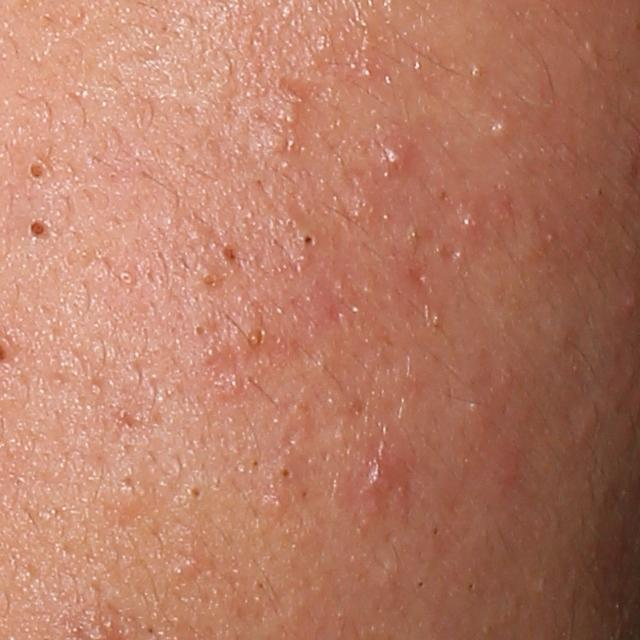comedo: (276, 84, 304, 131), (489, 118, 514, 151), (275, 456, 299, 490), (26, 215, 51, 243), (453, 210, 478, 238), (181, 480, 205, 507), (196, 269, 223, 293), (27, 158, 47, 182), (190, 320, 212, 341), (249, 327, 265, 352), (298, 230, 317, 250), (253, 577, 273, 594), (469, 62, 484, 81), (117, 269, 133, 286), (466, 581, 478, 594)
papule: (355, 453, 395, 502), (378, 144, 415, 181), (620, 289, 639, 312)
